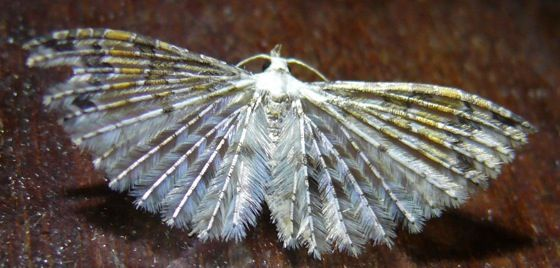Alucitidae: (18, 25, 545, 260)
moth: (20, 27, 547, 262)
